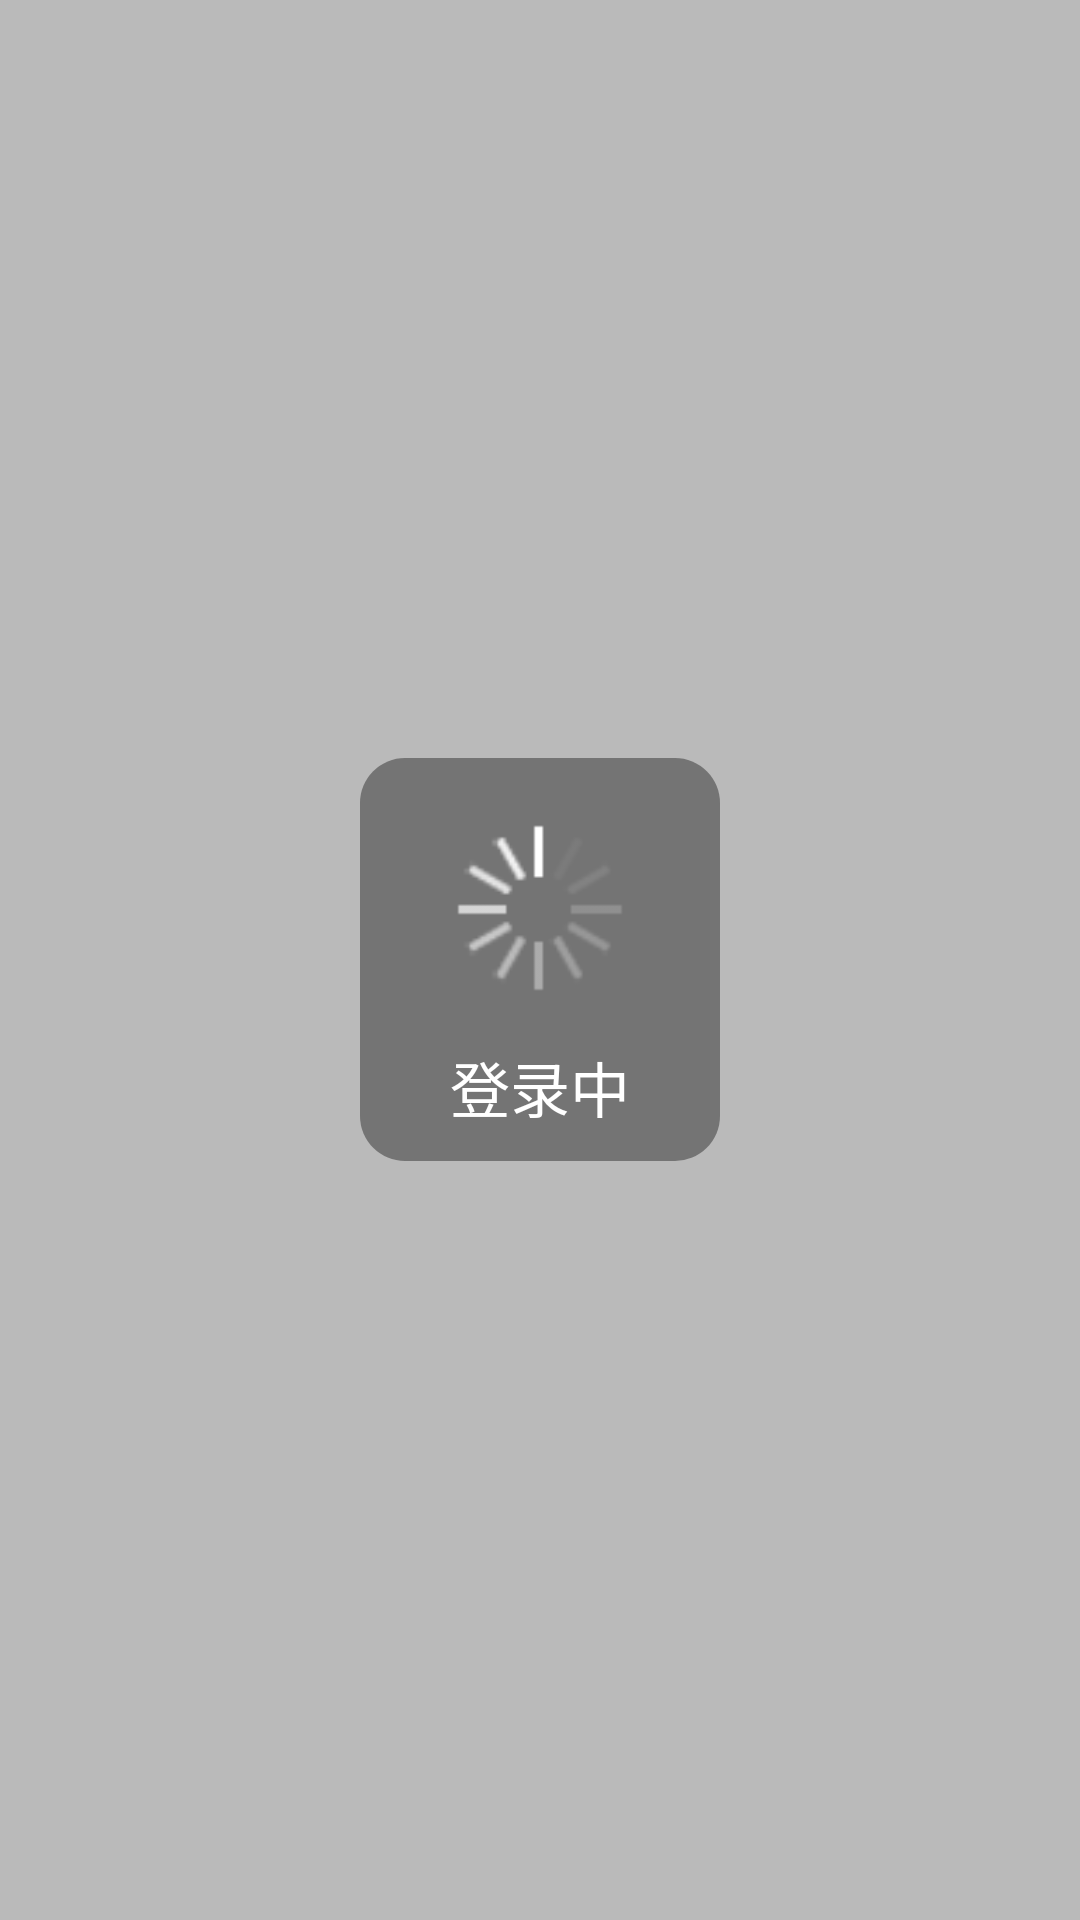

Where icons sit on this 1080w x 1920h app screen, as (left=x1, top=y1, right=x2, bottom=y2):
loading: (left=458, top=826, right=620, bottom=990)
